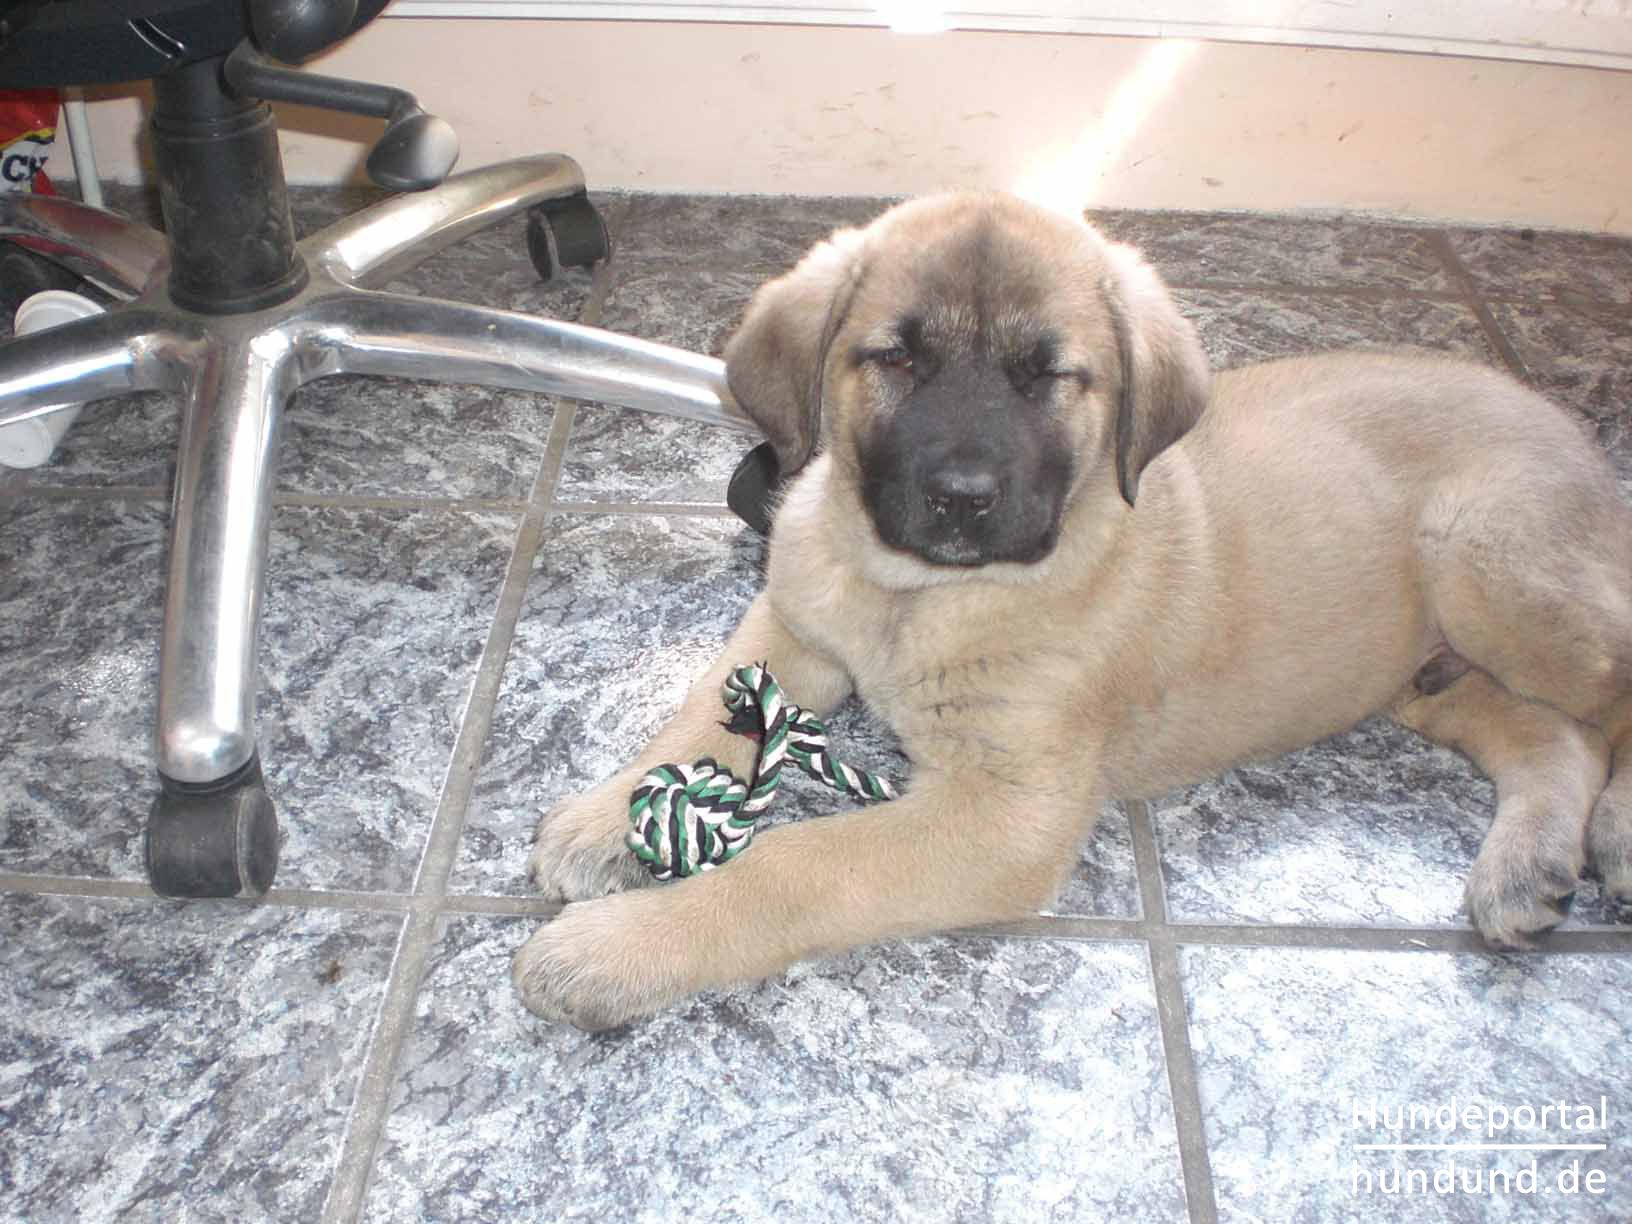kangal: (513, 186, 1632, 1031)
